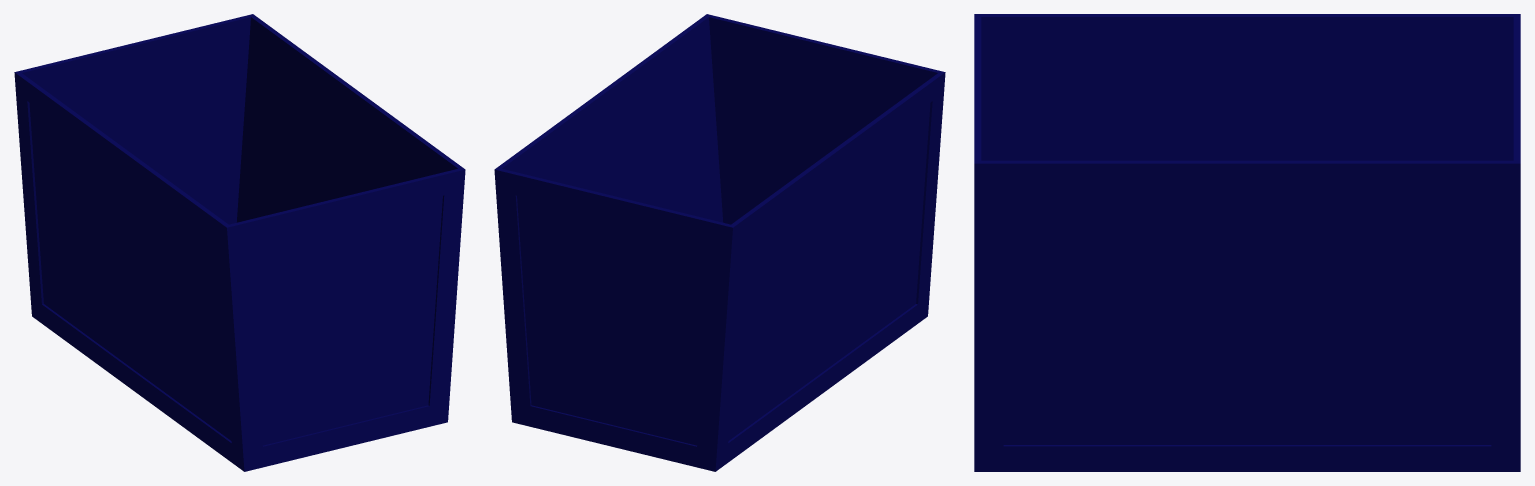
File: plastic_box_open.FBX
3 renders of one model, left to right at view 1: azimuth 30°, elevation 25°; view 2: azimuth 150°, elevation 25°; view 3: azimuth 270°, elevation 25°, orthographic. The views are drawn at different scales.
Visible parts, largest first — view 1: plasic_box_open; view 2: plasic_box_open; view 3: plasic_box_open.
Boxes of the visible parts, bbox=[...] form: plasic_box_open: bbox=[14, 14, 465, 471]; plasic_box_open: bbox=[494, 14, 945, 471]; plasic_box_open: bbox=[974, 14, 1520, 471].
Size of the model in its own units: 48.23 by 48 by 74.4.
